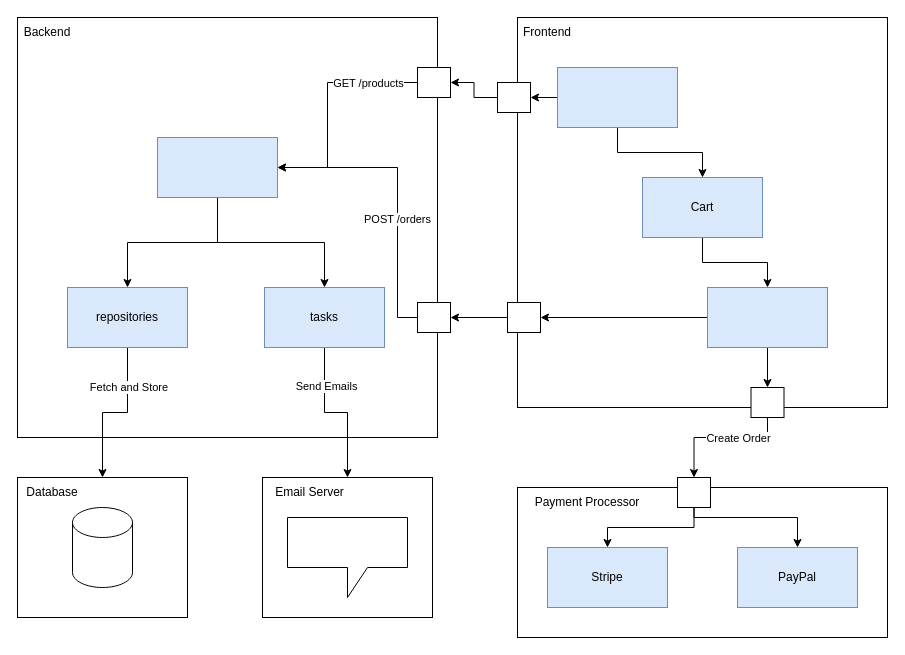
This 905x655 diagram has some shape labels left out. Here are the shapes that lost their labels. From the top down, the box of each, then its label:
(556, 66, 678, 128): Home
(156, 136, 278, 198): routes
(706, 286, 828, 348): Checkout
